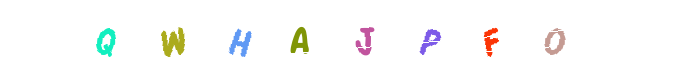A: (306, 0, 386, 80)
F: (433, 0, 513, 80)
H: (203, 0, 283, 80)
J: (325, 0, 405, 80)
O: (450, 0, 530, 80)
P: (390, 0, 470, 80)
Q: (66, 0, 146, 80)
W: (184, 0, 264, 80)
